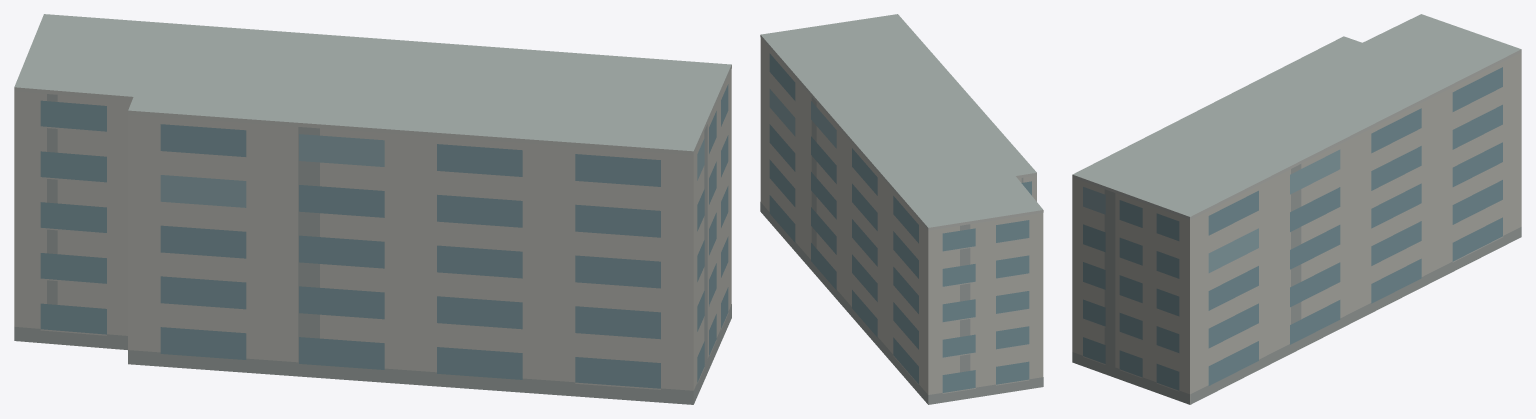
File: survey-upis-32763514.glb
3 renders of one model, left to right at view 1: azimuth 30°, elevation 25°; view 2: azimuth 150°, elevation 25°; view 3: azimuth 270°, elevation 25°, orthographic. The views are drawn at different scales.
Visible parts, largest first — view 1: survey-upis-32763514.tmp; view 2: survey-upis-32763514.tmp; view 3: survey-upis-32763514.tmp.
Part boxes in pixels (x1,y1,x2,y2): survey-upis-32763514.tmp: (14, 14, 731, 404); survey-upis-32763514.tmp: (760, 14, 1043, 404); survey-upis-32763514.tmp: (1072, 14, 1521, 404).
Size of the model in its own units: 35.33 by 15.25 by 33.03.
